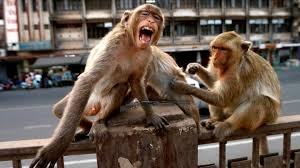escopeta.png: (117, 98, 194, 113)
